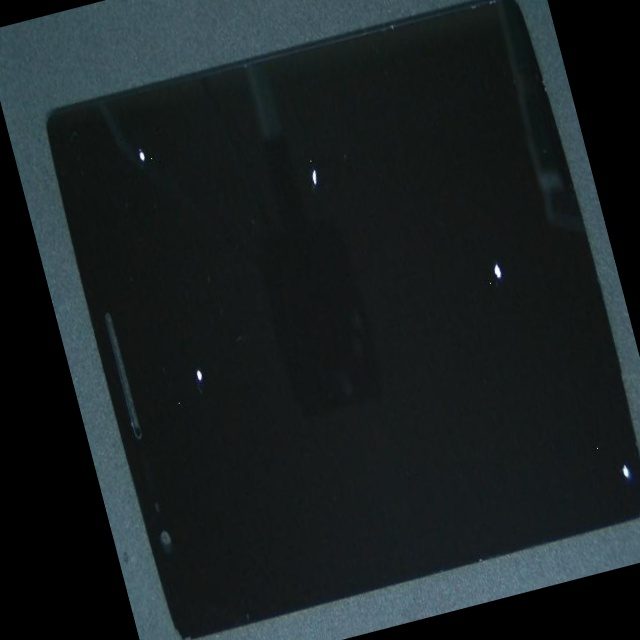stain: (229, 56, 640, 469), (303, 144, 640, 623), (143, 0, 462, 296), (97, 135, 293, 554), (14, 64, 214, 273)
